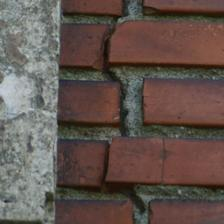Crack: (14, 0, 92, 103), (22, 30, 130, 104)
